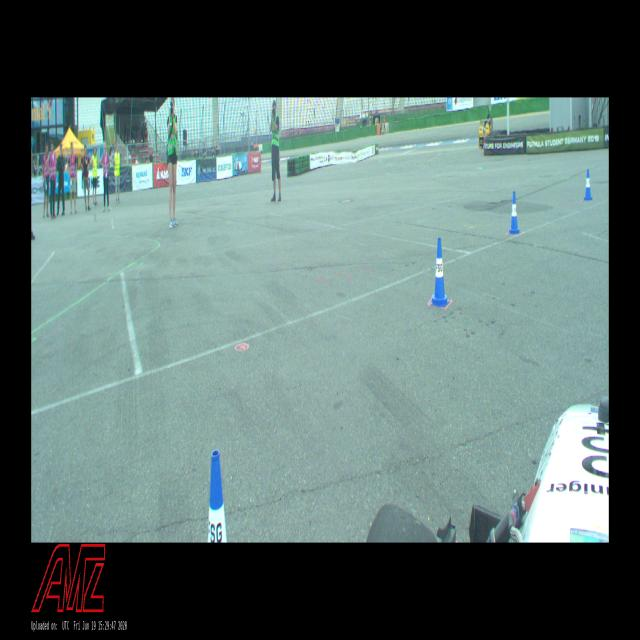blue_cone: (208, 450, 228, 542), (429, 237, 450, 308), (508, 191, 521, 234), (584, 170, 593, 200)
